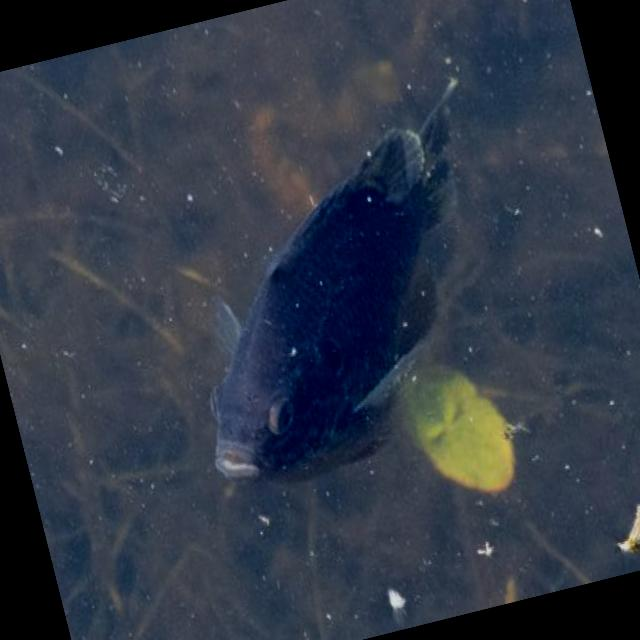Gunes Levregi: (128, 88, 534, 496)
